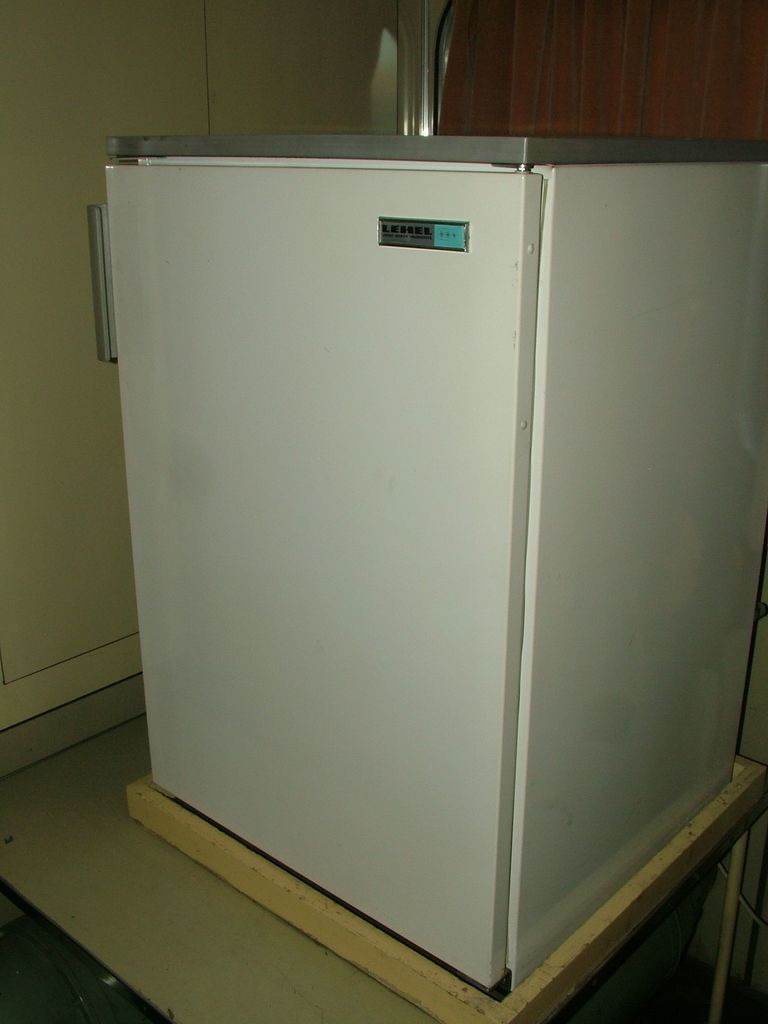handle: (80, 209, 121, 374)
refrigerator door: (136, 176, 521, 969)
